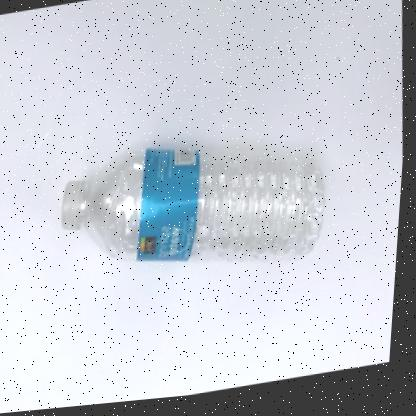Plastic: (64, 151, 328, 266)
